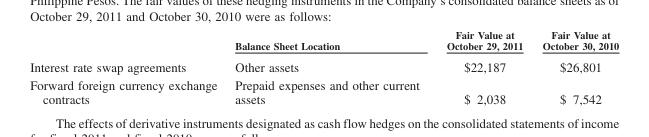table: (29, 28, 618, 105)
table column: (225, 28, 432, 105), (29, 28, 225, 105), (432, 28, 532, 105), (532, 28, 618, 105)
table column header: (29, 28, 618, 54)
table row: (29, 75, 618, 105), (29, 28, 618, 54), (29, 54, 618, 75)
